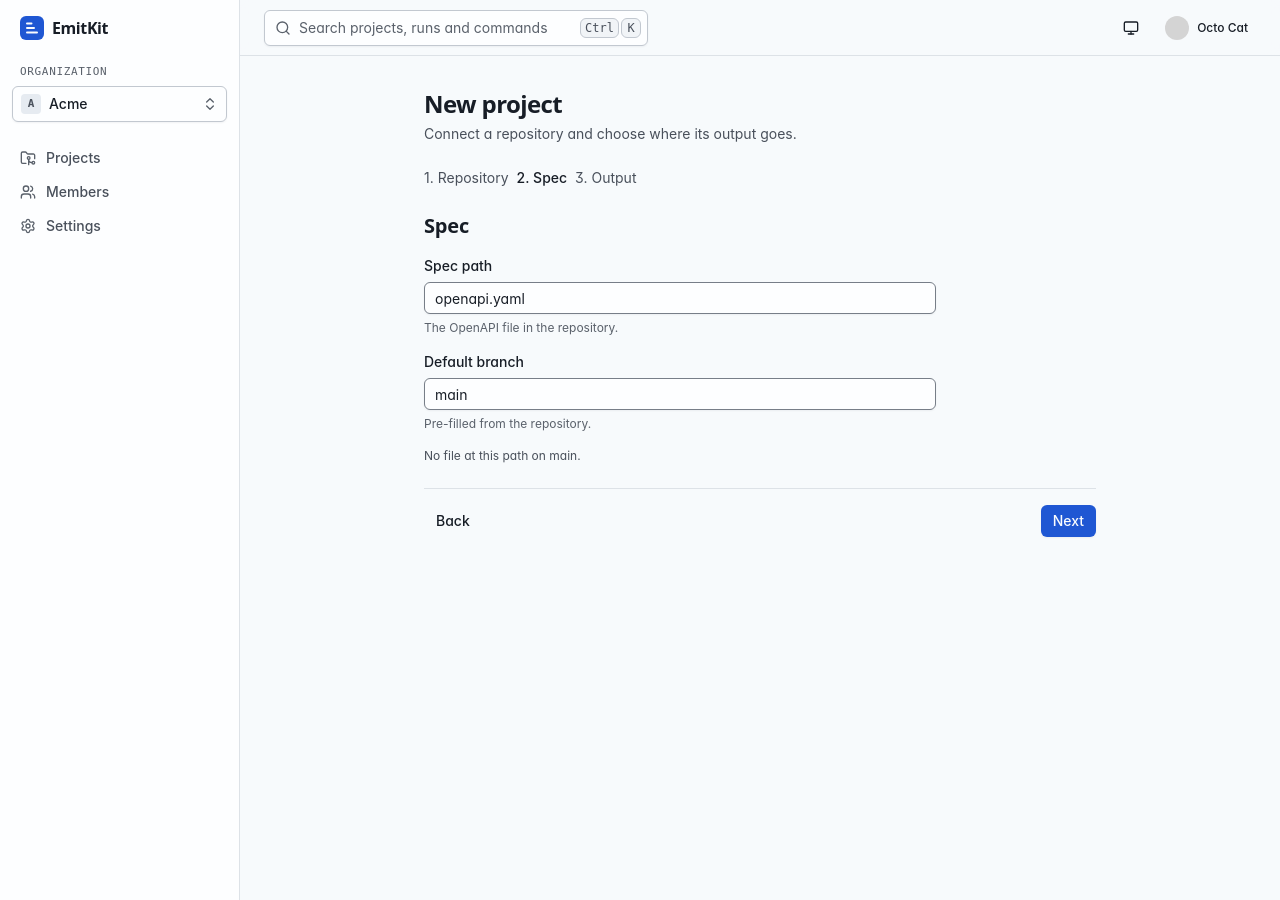
Test: a spec path error clears once the path is typed
The image size is (1280, 900).
Clear the field labelled "Spec path" at (680, 298), box [424, 282, 936, 314]
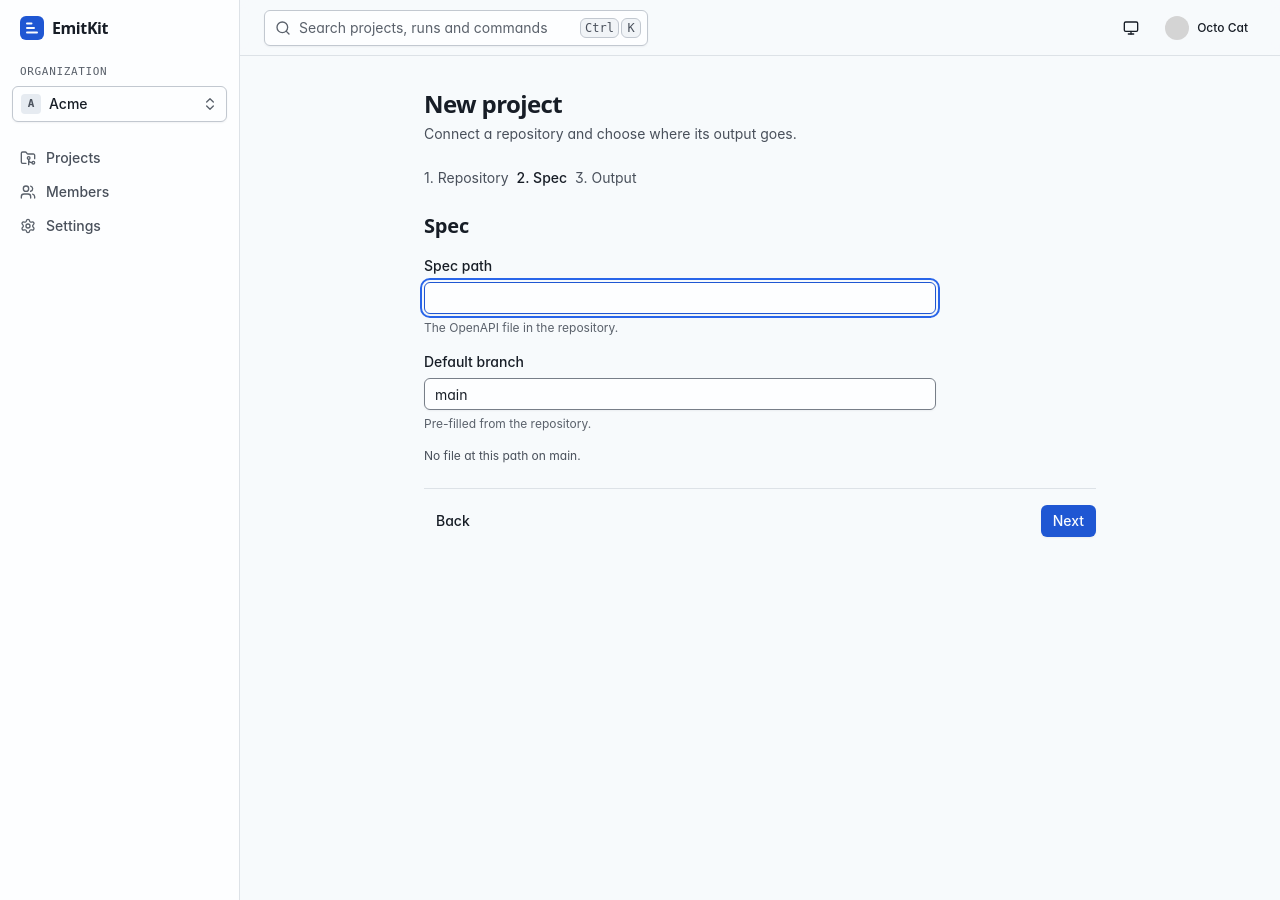
Click the button "Next" at (1068, 521), box [1041, 505, 1096, 537]
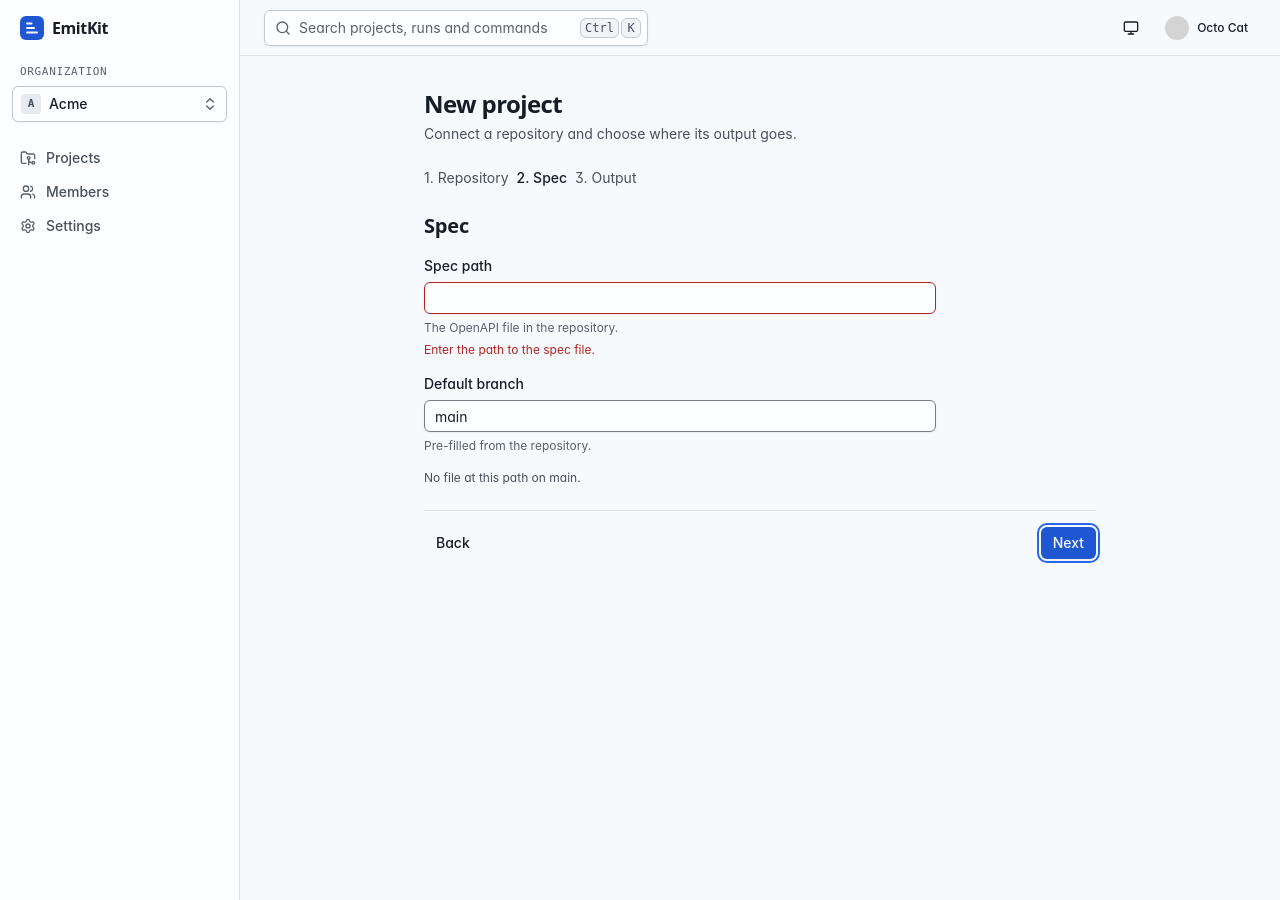
Result: the text "Enter the path to the spec file." is shown at [424, 342, 595, 357]
Type "api/billing.yaml" into the field labelled "Spec path" at (680, 298), box [424, 282, 936, 314]
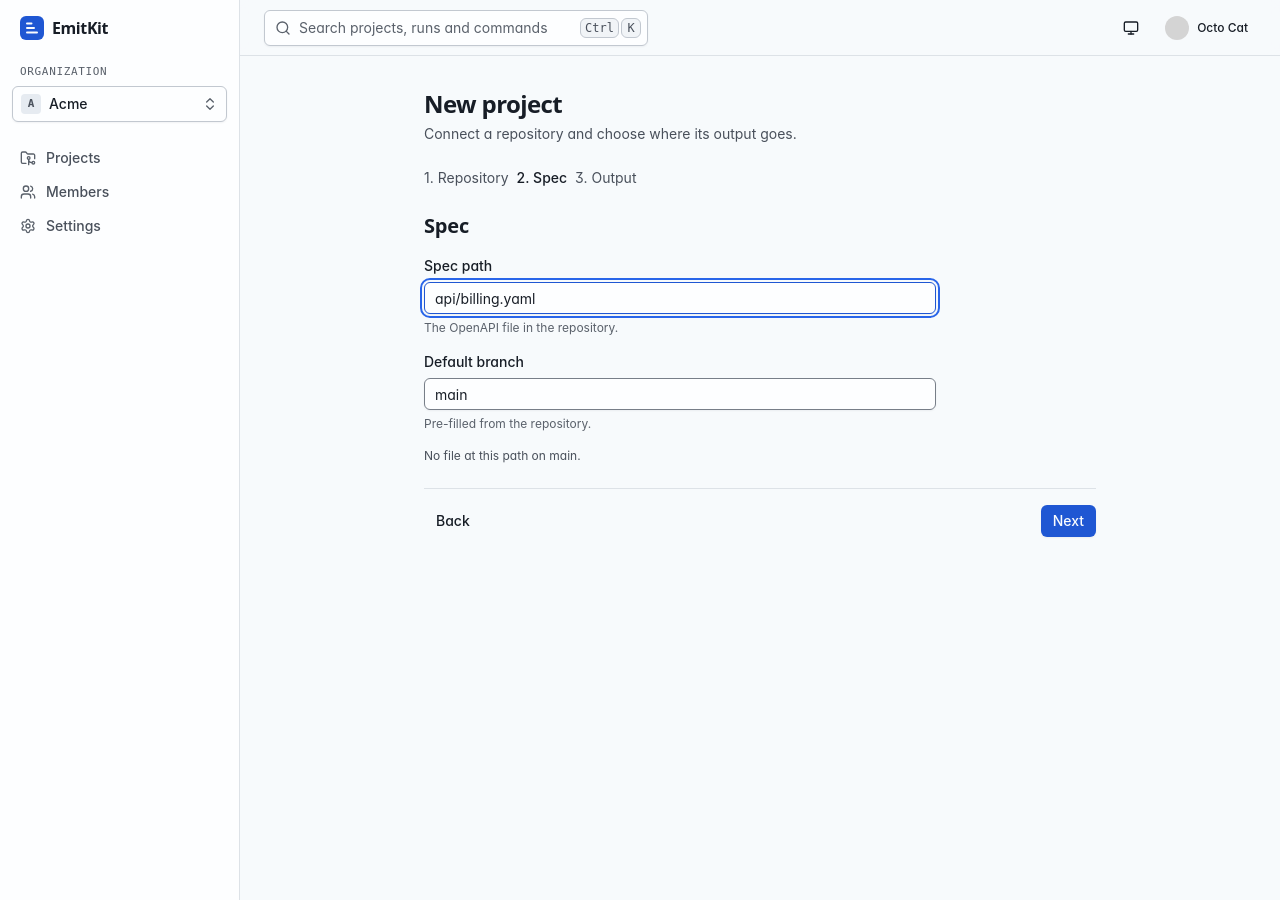
Result: the text "Enter the path to the spec file." is gone
